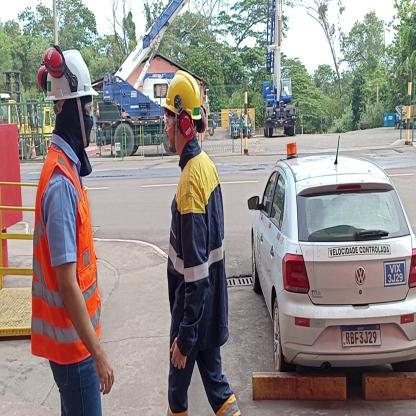Balaclava: (54, 101, 94, 144)
C_eletrica: (170, 166, 230, 348)
Capacete: (38, 45, 100, 100), (161, 69, 210, 114)
colete: (33, 147, 108, 363)
